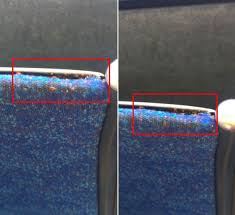seat: (3, 47, 106, 209)
